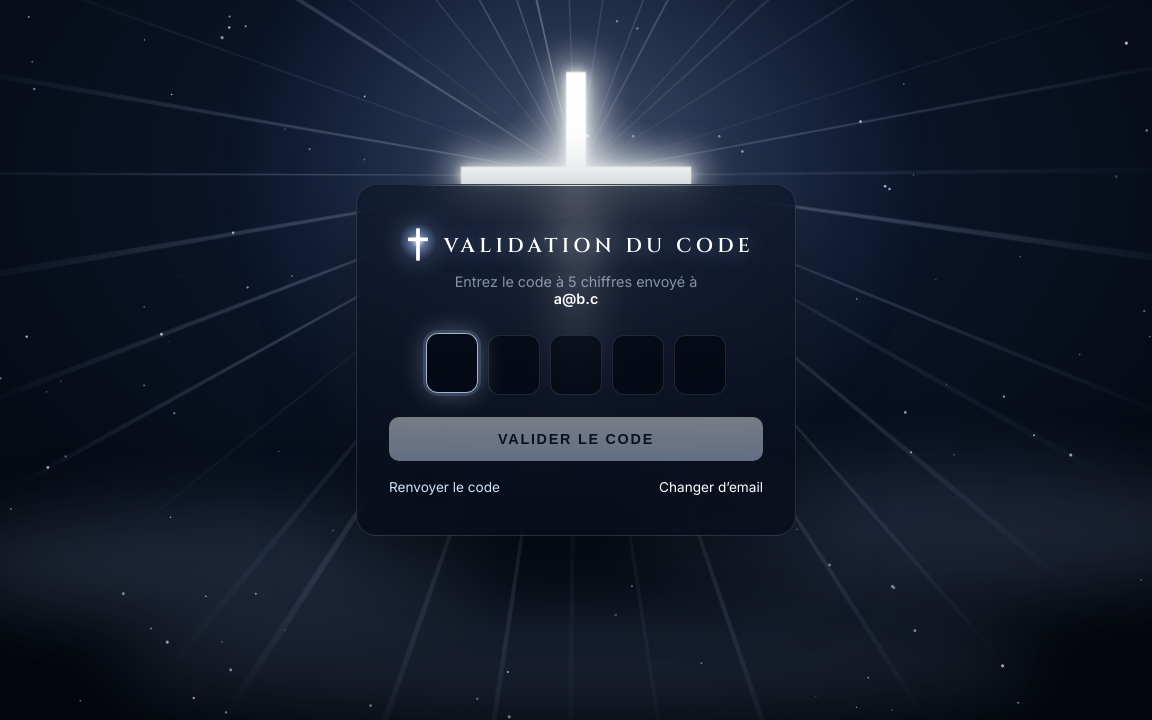
Test: VerifyCode : mot de passe oublié › affiche l’erreur du renvoi
Step 1. Click the button "Renvoyer le code" → (444, 487), box [389,479,500,495]
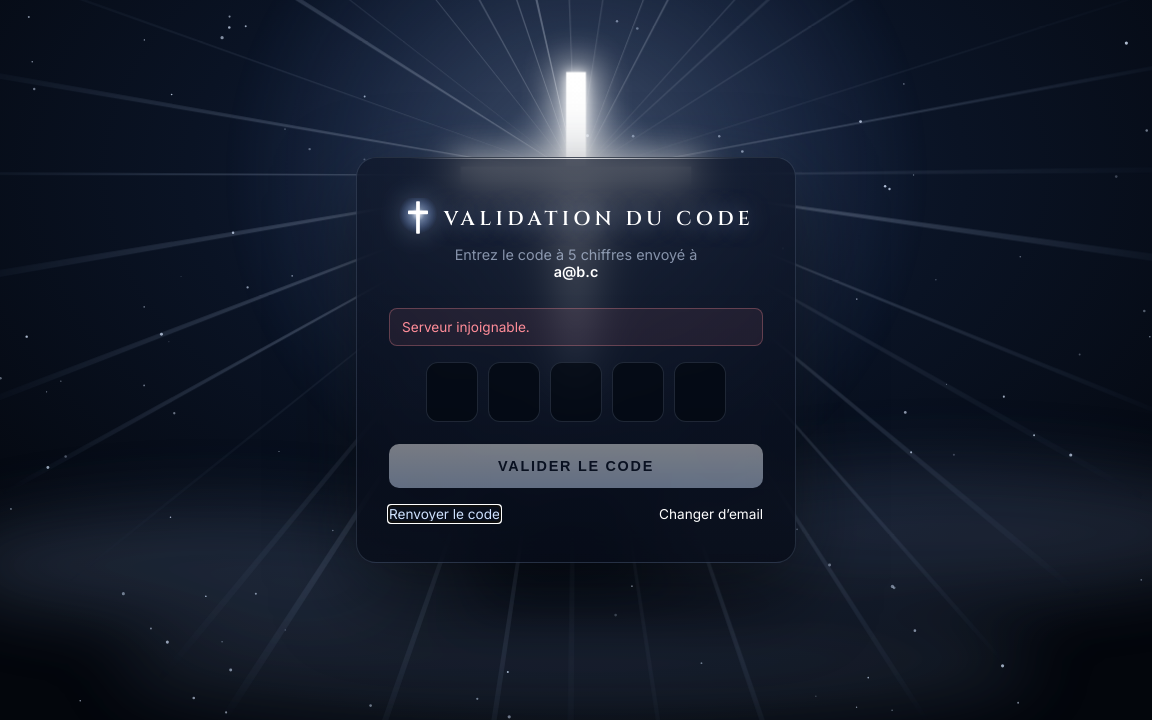
Now the text "Serveur injoignable." is shown, box [389,308,763,346]
